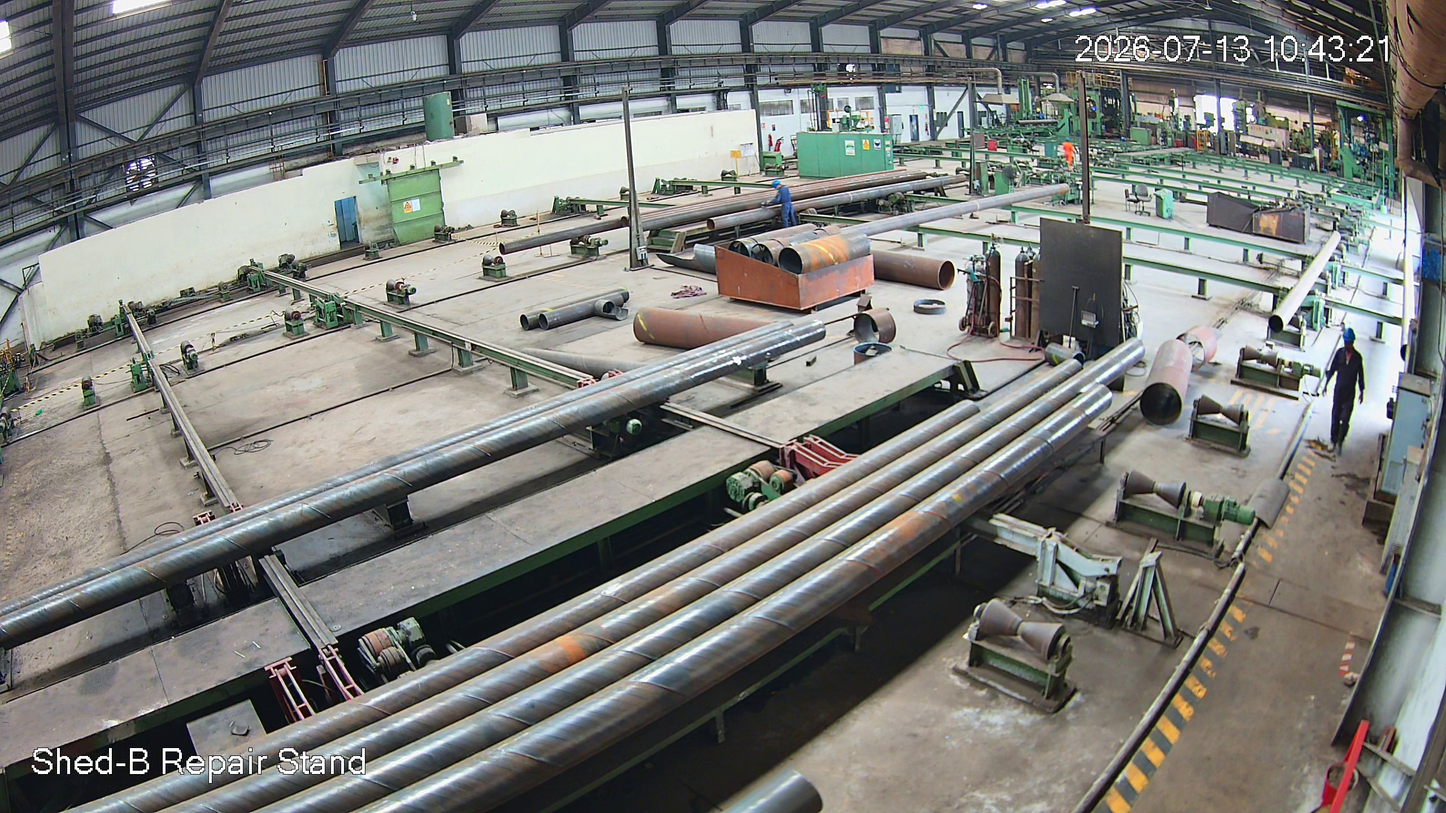Helmet: (1339, 328, 1358, 354)
Person: (1324, 328, 1367, 459)
